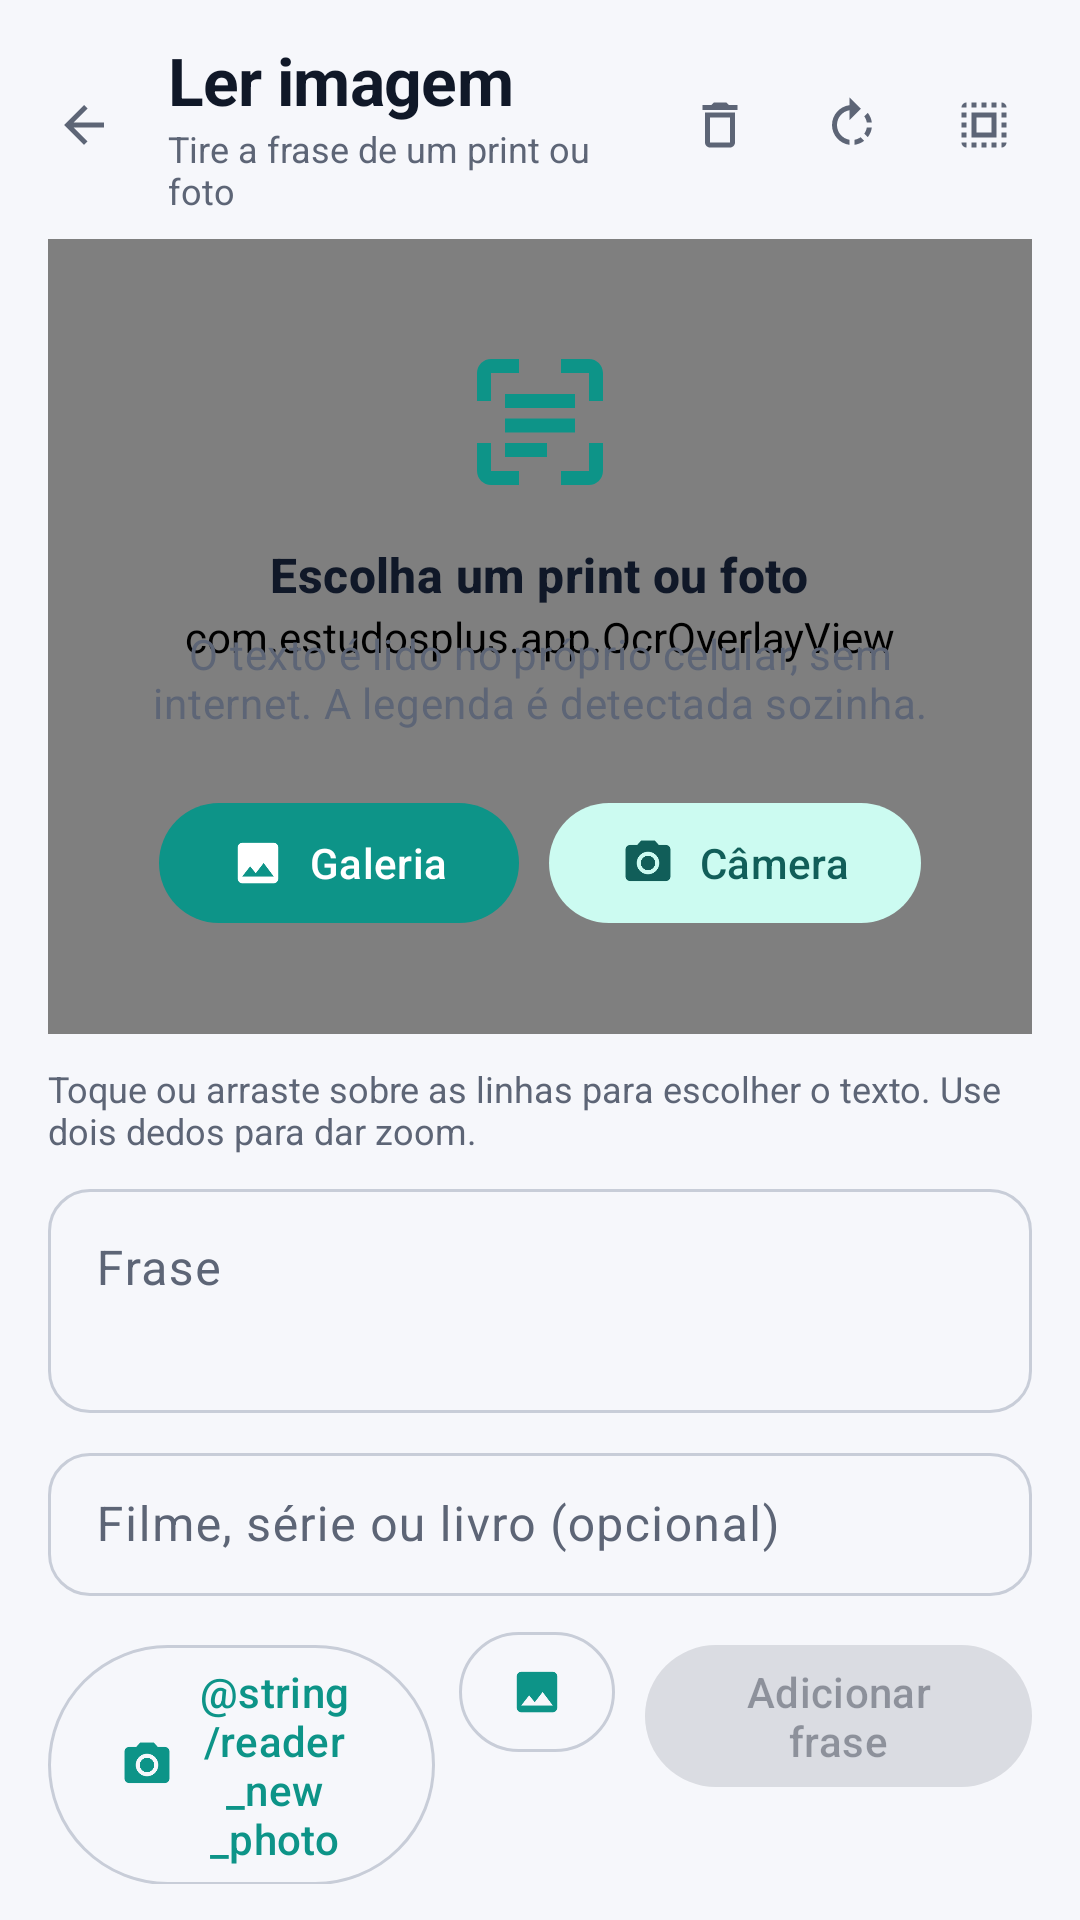

Icons on this 1080x1920 Android screen, each with its box as (x1, y1, x2, y2):
delete: (702, 102, 738, 148)
Girar imagem: (832, 97, 872, 145)
scan: (477, 359, 603, 485)
Selecionar tudo: (961, 102, 1007, 148)
Voltar: (64, 105, 104, 145)
